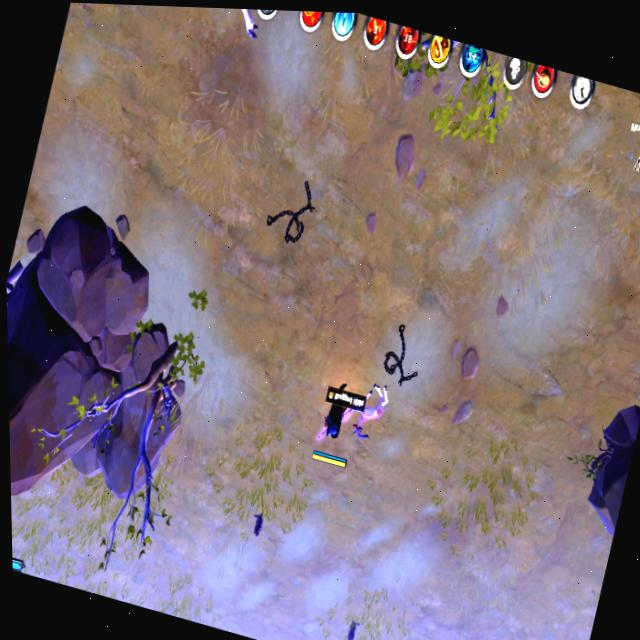mob: (315, 364, 398, 458), (164, 6, 274, 54)
red: (303, 369, 375, 477)
